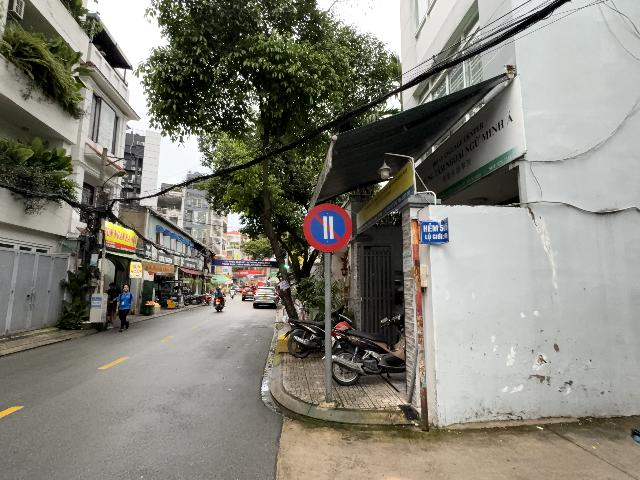cam-do-xe-ngay-chan: (304, 203, 352, 253)
